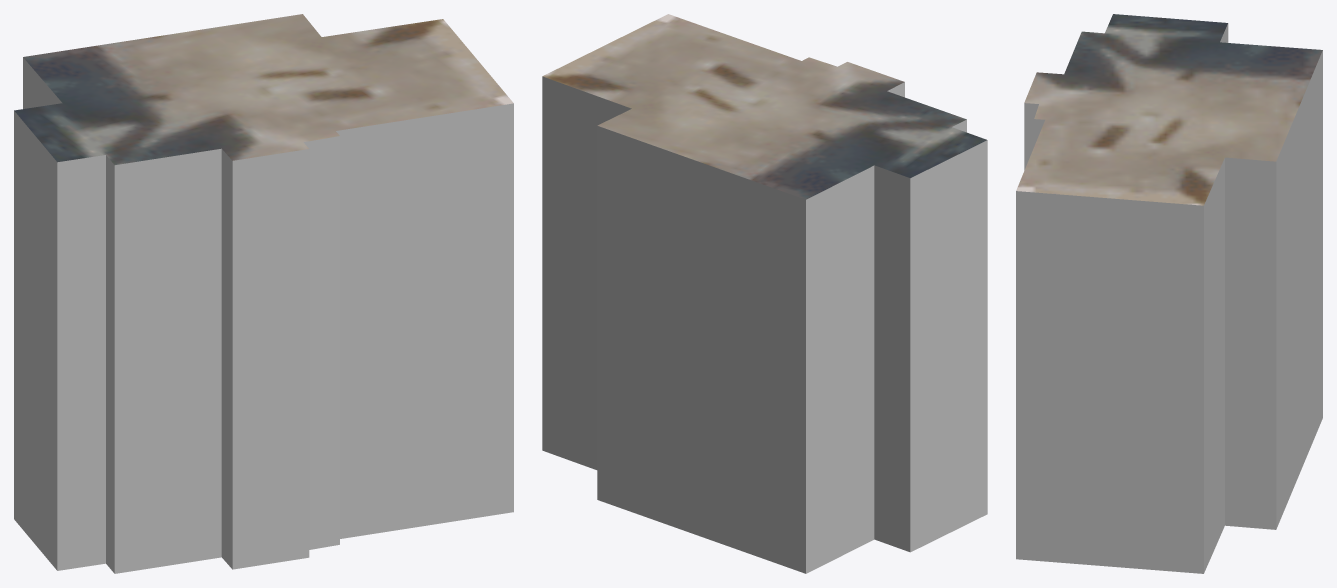
The model's file is DEBW_0010007TxaV.gltf.
3 views of the same model, side by side, from view 1: azimuth 30°, elevation 25°; view 2: azimuth 150°, elevation 25°; view 3: azimuth 270°, elevation 25° (orthographic). The views are drawn at different scales.
Visible parts, largest first — view 1: Z_UP; view 2: Z_UP; view 3: Z_UP.
Part boxes in pixels (x1,y1,x2,y2): Z_UP: [14, 14, 513, 573]; Z_UP: [542, 14, 987, 573]; Z_UP: [1016, 14, 1322, 573].
Size of the model in its own units: 19.55 by 17.51 by 13.22.
2 materials, 1 textured.
